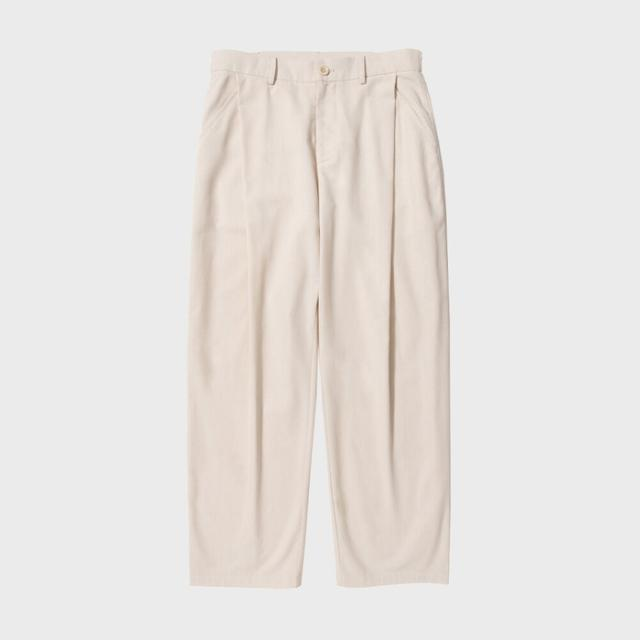long-pants: (186, 48, 453, 594)
